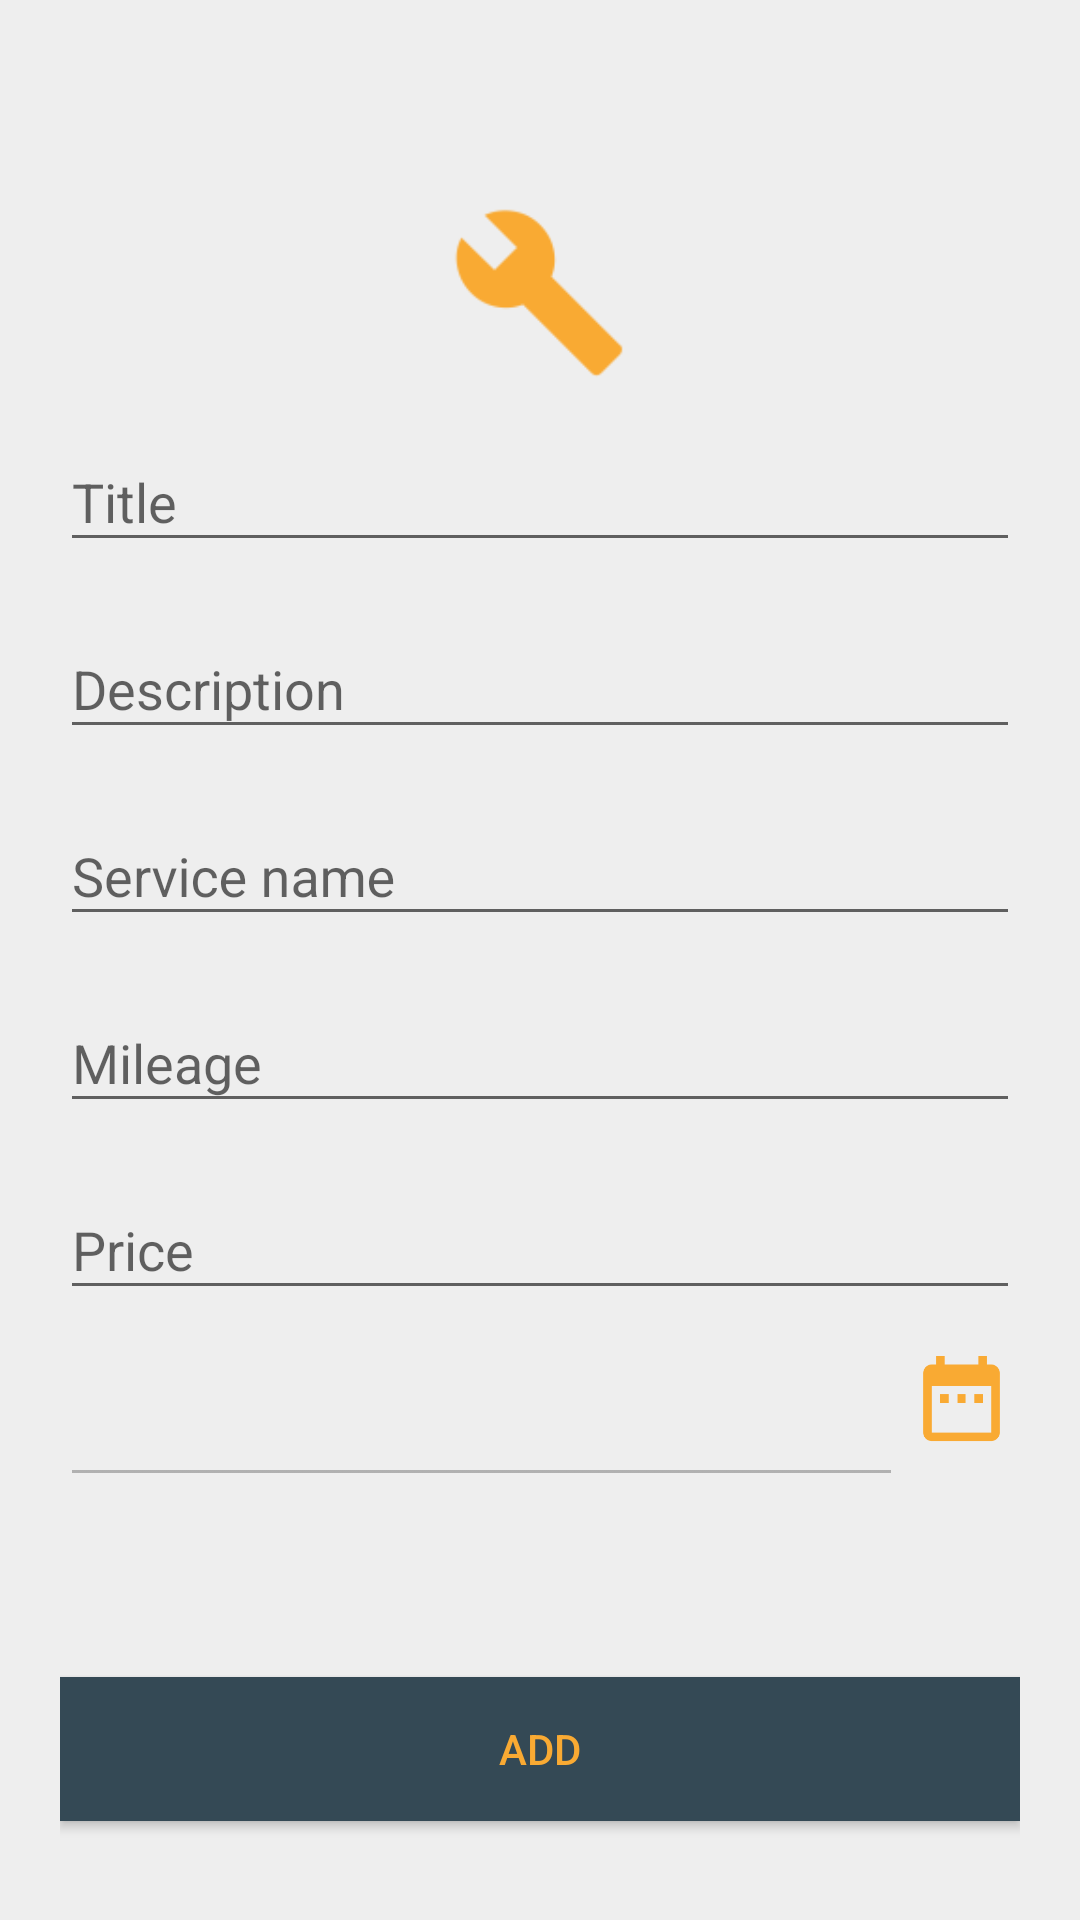

Screen size 1080*1920. Icon name, then its box in pixels as [x1, y1, x2, y2]:
build: [455, 209, 623, 376]
date range: [923, 1356, 1000, 1441]
